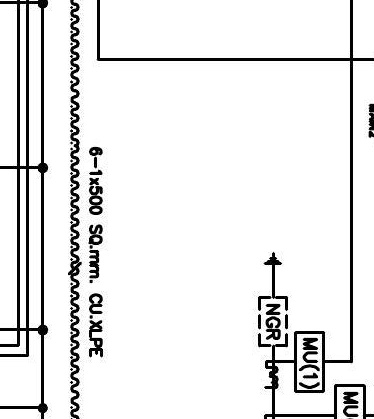MU: (294, 330, 326, 394)
NGR_future: (257, 251, 289, 348)
